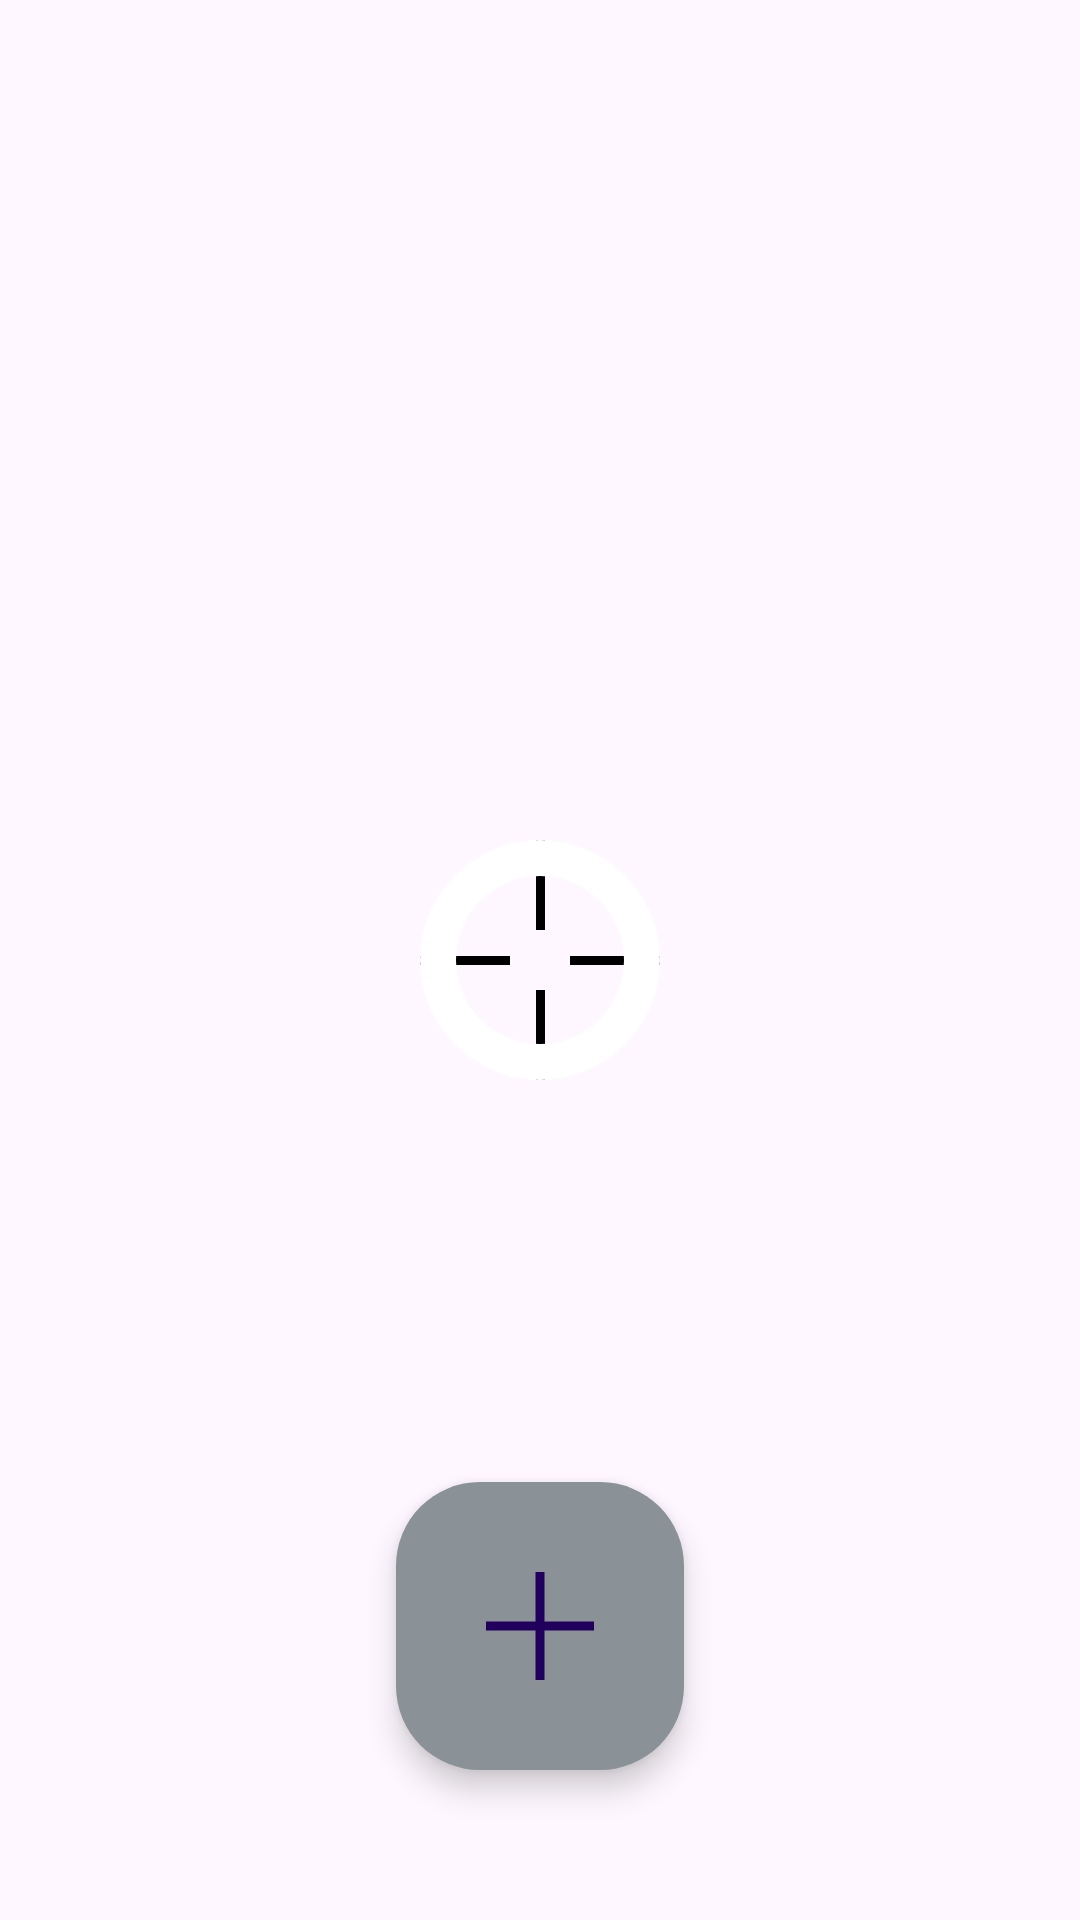

Icons on this 1080*1920 Android screen, each with the point to tap as point (x, y):
plus: point (540, 1626)
